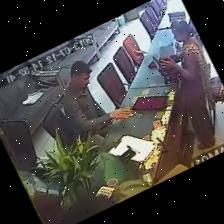person: (160, 20, 214, 150), (63, 61, 131, 145), (61, 195, 115, 223)
